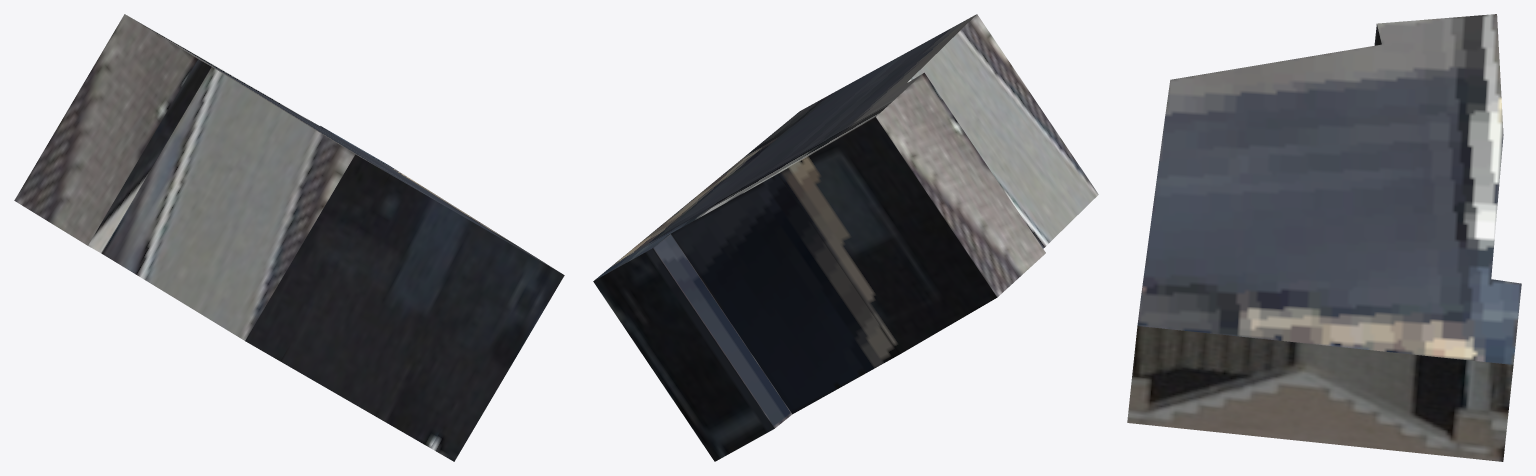
3 renders of one model, left to right at view 1: azimuth 30°, elevation 25°; view 2: azimuth 150°, elevation 25°; view 3: azimuth 270°, elevation 25°, orthographic. The views are drawn at different scales.
Parts seen in each view (by area): view 1: BAG_0599100010059655 (×3); view 2: BAG_0599100010059655 (×3); view 3: BAG_0599100010059655.
Boxes of the visible parts, x1,y1,x2,y2 form: BAG_0599100010059655 (×3): (14, 14, 564, 461); BAG_0599100010059655 (×3): (593, 14, 1098, 461); BAG_0599100010059655: (1127, 14, 1521, 461).
Bounding box in the file's own units: 5.3 × 4.94 × 4.74.
1 material, 1 textured.
